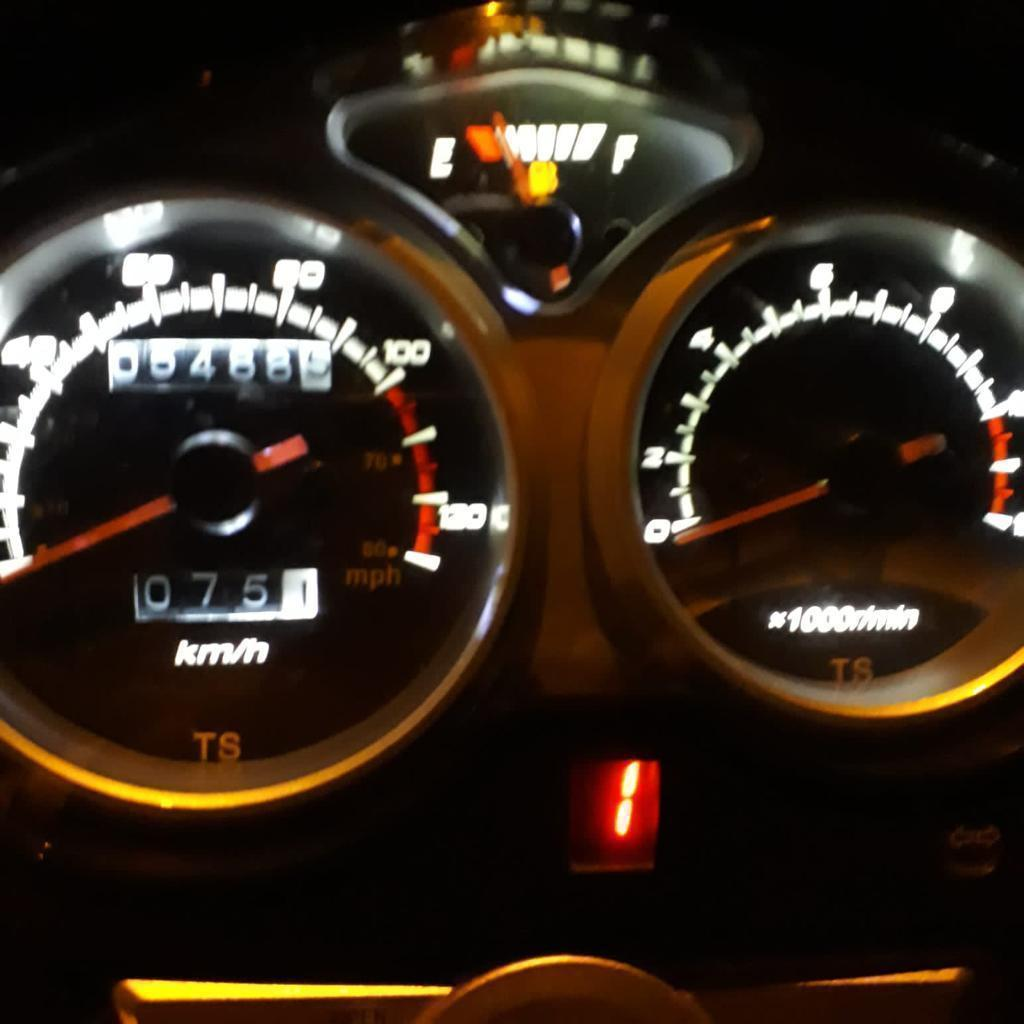0: (112, 342, 139, 383)
4: (188, 343, 216, 382)
5: (149, 340, 176, 380), (306, 346, 330, 379)
8: (227, 344, 257, 381), (265, 347, 292, 383)
odometer: (104, 335, 334, 397)
